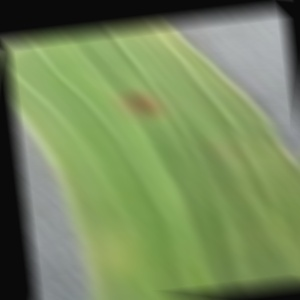Bacterial_Leaf_Blight: (118, 87, 169, 120), (221, 141, 237, 155), (254, 191, 270, 202), (227, 129, 241, 137)
